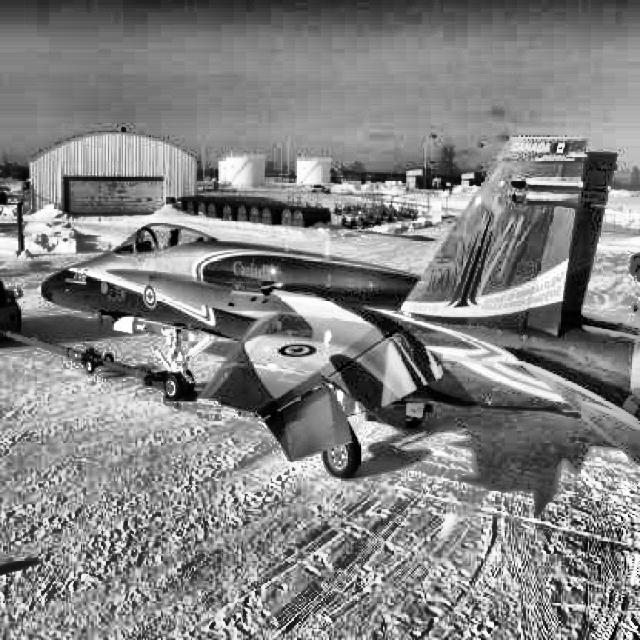F18: (37, 135, 640, 479)
